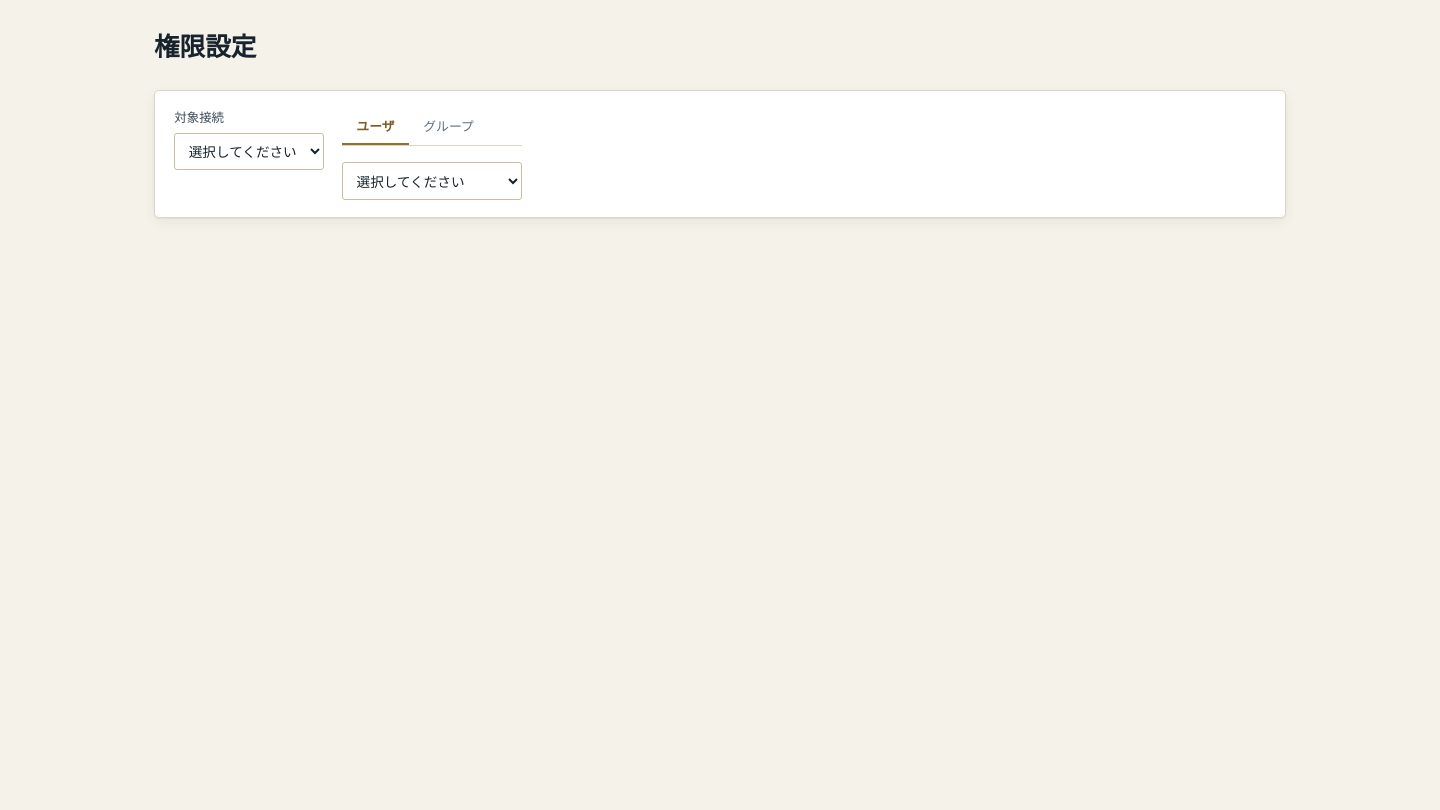
Test: PermissionAssignmentPage › shows the form once both a principal and a tree node are selected
Select "conn-1" in the dropdown with test id "connection-selector-select": (249, 152) [174,133,324,170]
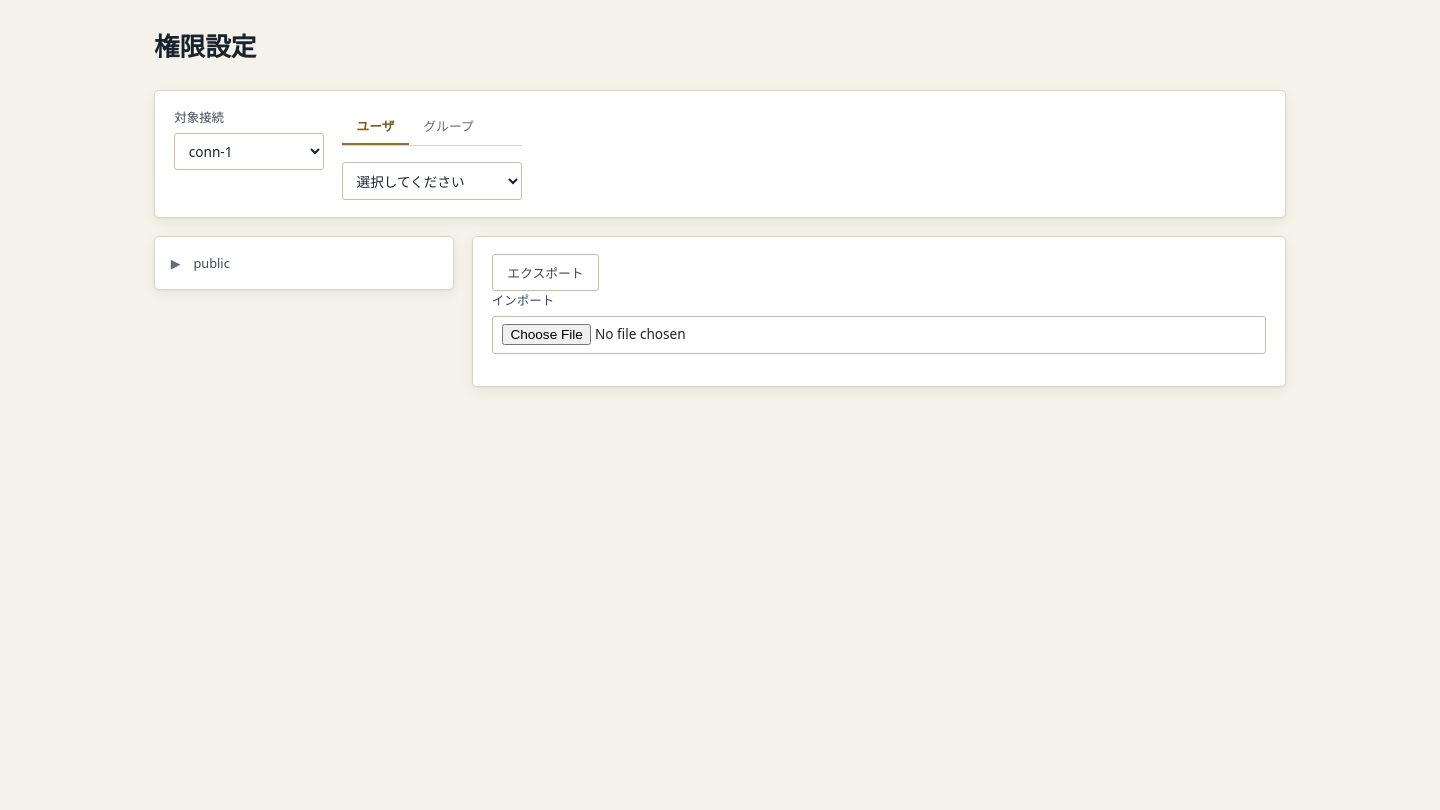
Now the list with test id "permission-tree" is shown, box [154,236,454,290]
Now the button "public" is shown, box [187,250,236,277]
Select "user-7@example.com" in the dropdown with test id "principal-selector-user-select": (432, 181) [342,162,522,200]
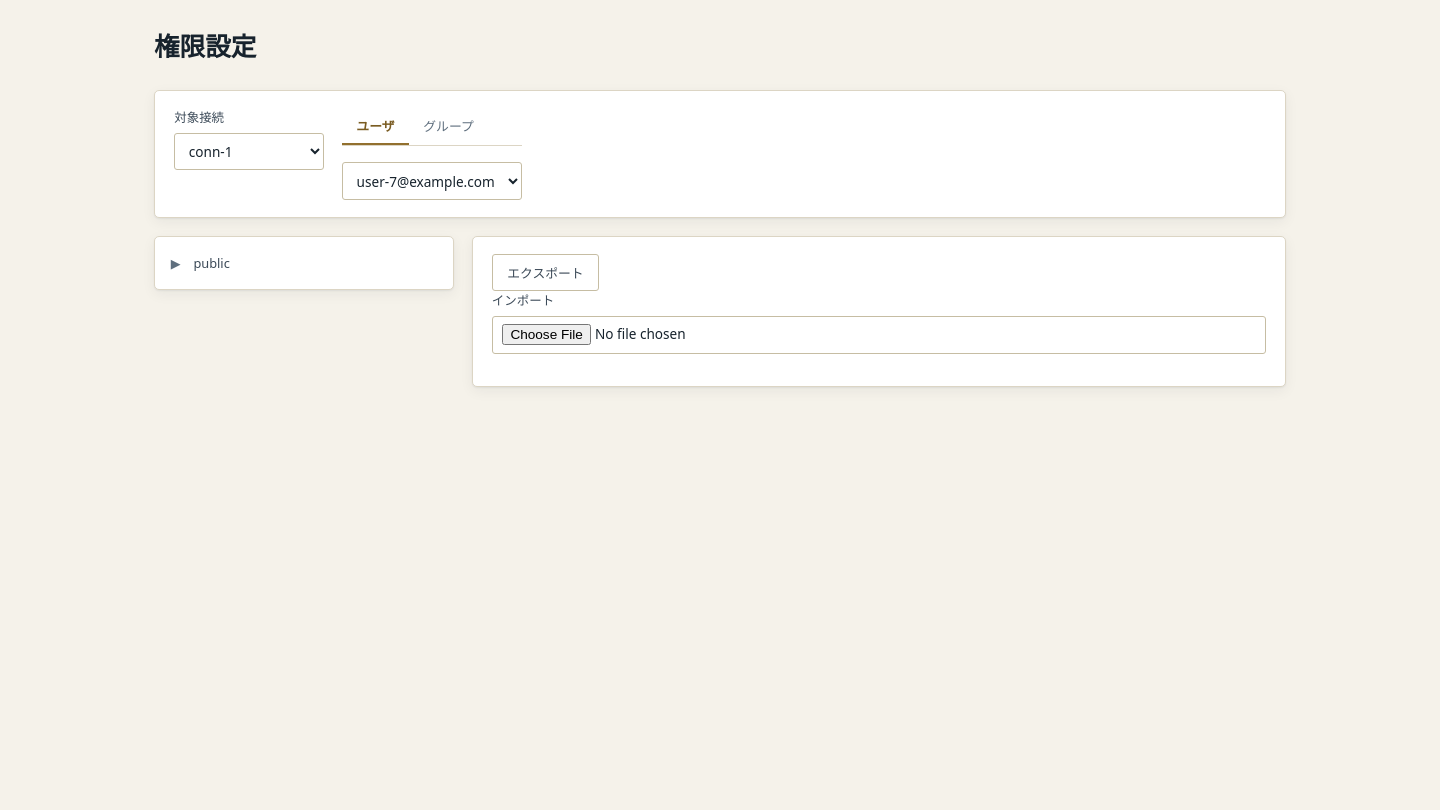
Click the button with test id "permission-tree-schema-select": (212, 263) [187,250,236,277]
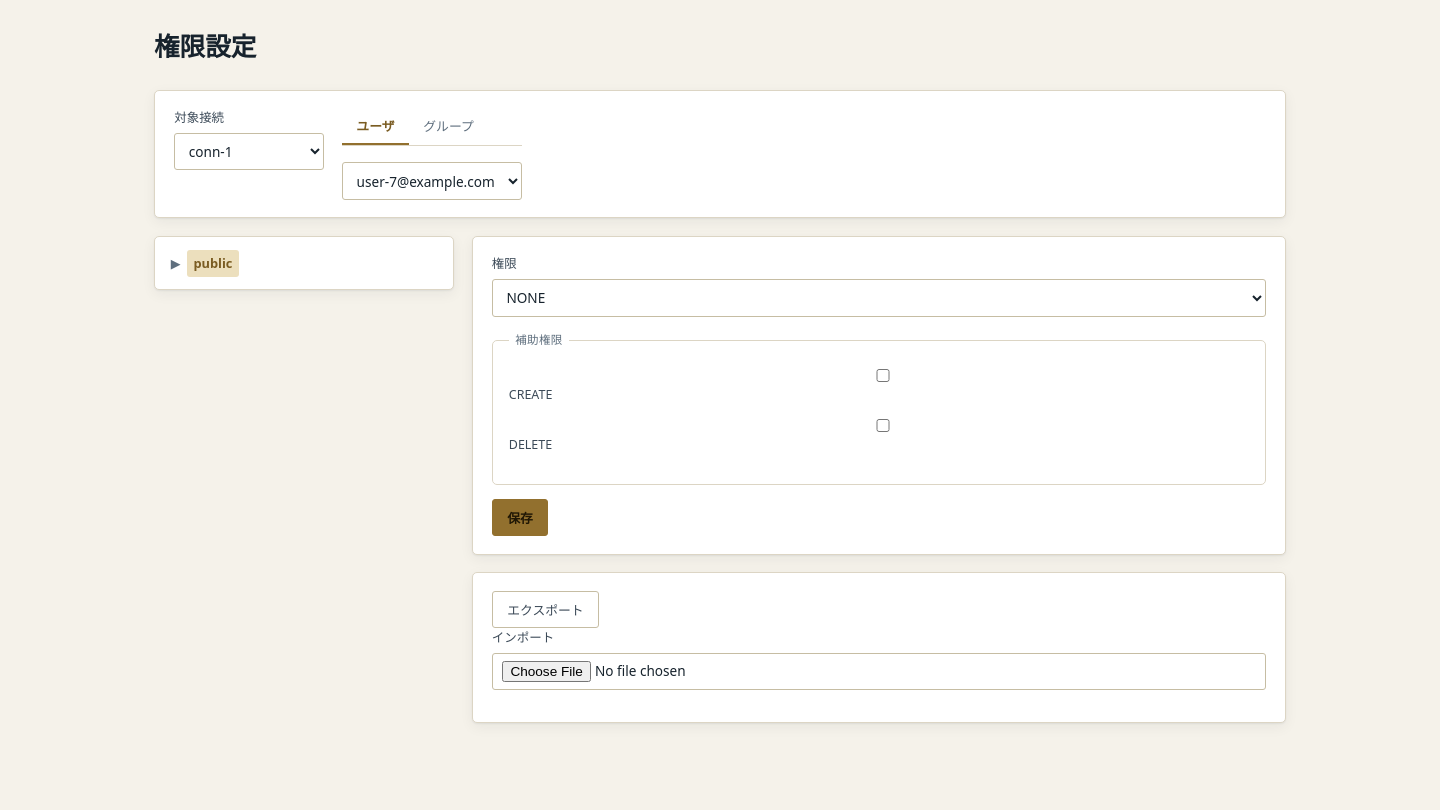
Now the form with test id "permission-form" is shown, box [472,236,1286,555]
